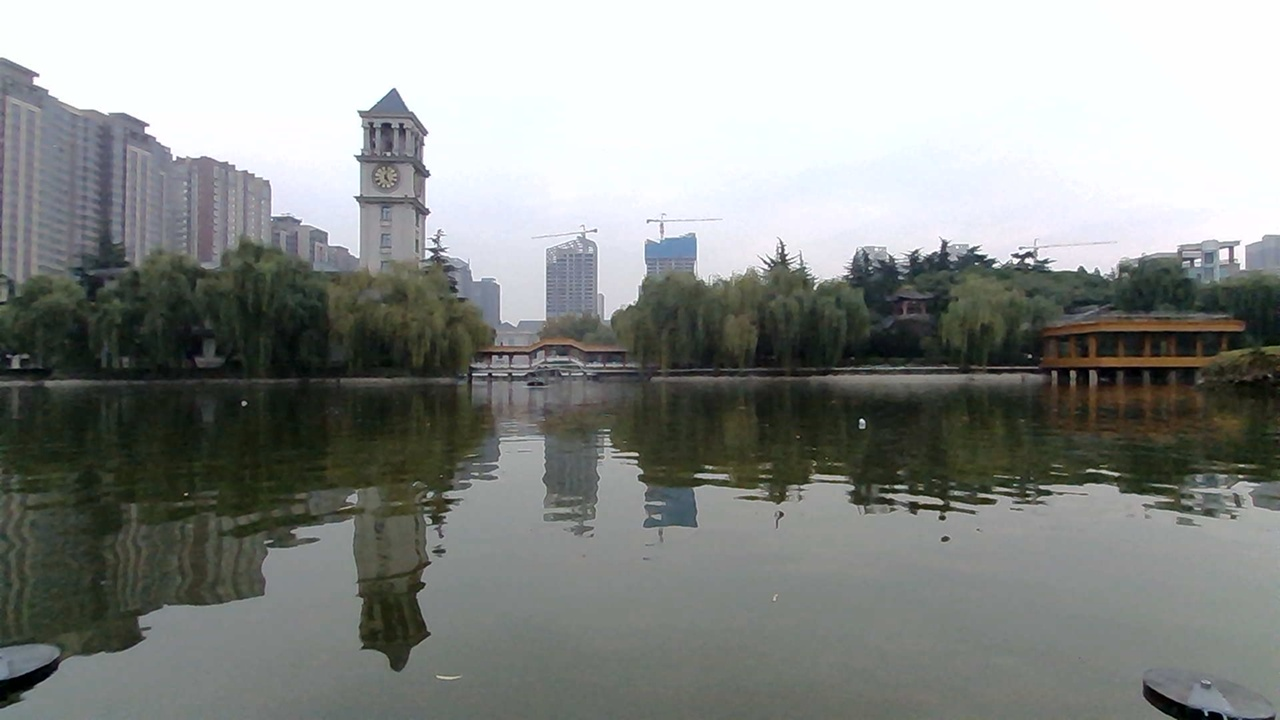bottle: (851, 405, 885, 430)
